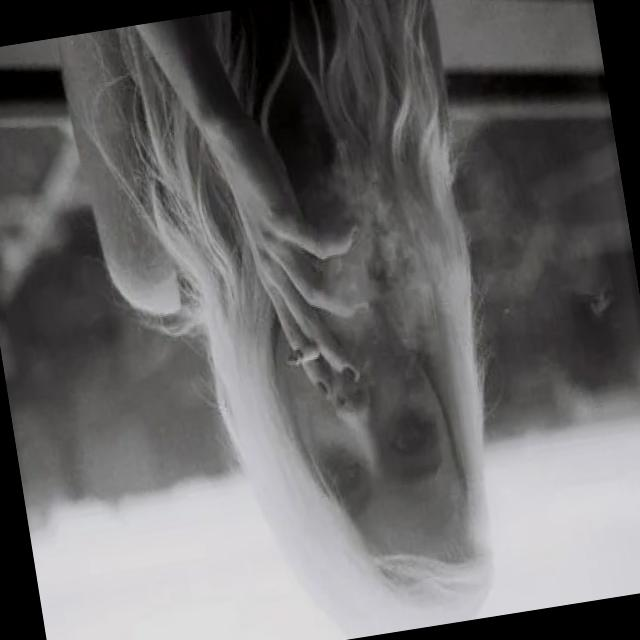cigarette: (282, 334, 328, 374)
